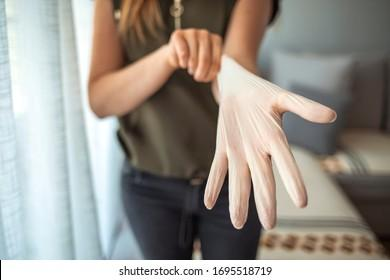gloves: (203, 56, 338, 231)
